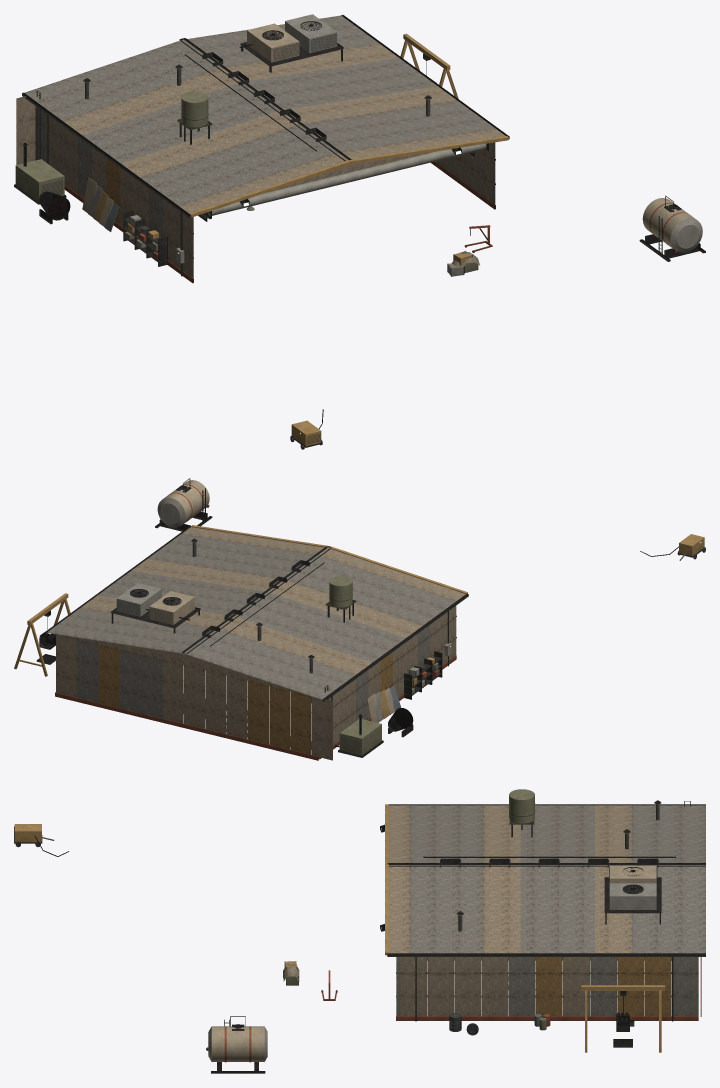
Rendered from vesper-workshop.glb.
3 views of the same model, one above another, from view 1: azimuth 30°, elevation 25°; view 2: azimuth 150°, elevation 25°; view 3: azimuth 270°, elevation 25° (orthographic). The views are drawn at different scales.
Visible parts, largest first — view 1: ws_roof, ws_cladding, ws_roofplant, ws_east, ws_front, ws_fueltank, ws_yard, ws_west; view 2: ws_roof, ws_cladding, ws_roofplant, ws_east, ws_fueltank, ws_west, ws_yard; view 3: ws_roof, ws_cladding, ws_roofplant, ws_fueltank, ws_west, ws_yard.
Part boxes in pixels (x1,y1,x2,y2): ws_roof: (22, 15, 509, 217); ws_cladding: (16, 96, 495, 283); ws_roofplant: (36, 14, 431, 159); ws_east: (14, 143, 167, 266); ws_front: (176, 143, 488, 263); ws_fueltank: (639, 195, 705, 261); ws_yard: (290, 225, 492, 449); ws_west: (400, 33, 458, 98); ws_roof: (45, 525, 468, 701); ws_cladding: (55, 606, 456, 760); ws_roofplant: (111, 538, 356, 699); ws_east: (335, 651, 442, 757); ws_fueltank: (155, 478, 212, 531); ws_west: (14, 593, 70, 676); ws_yard: (640, 534, 705, 560); ws_roof: (385, 804, 705, 956); ws_cladding: (396, 957, 701, 1021); ws_roofplant: (423, 789, 690, 931); ws_fueltank: (206, 1016, 267, 1073); ws_west: (449, 985, 665, 1052); ws_yard: (14, 824, 337, 1000).
Size of the model in its own units: 45.17 by 10.73 by 56.05.
Materials: 9 (5 with a texture image).
